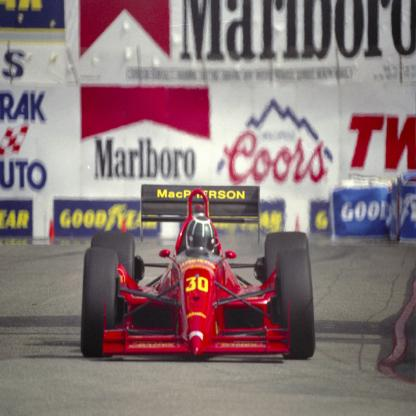Car: (71, 195, 313, 363)
